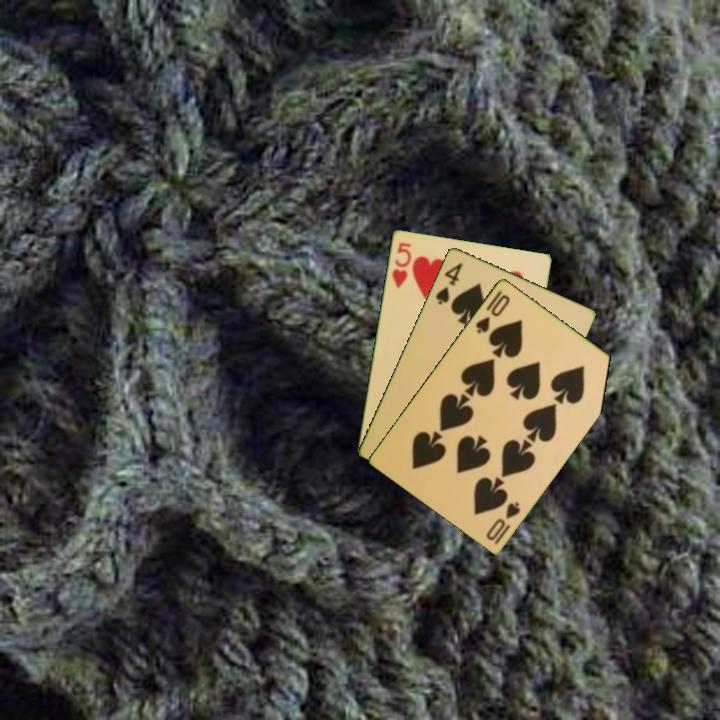10s: (472, 286, 513, 336), (482, 498, 523, 547)
4s: (432, 258, 465, 307)
5h: (388, 238, 414, 291)
